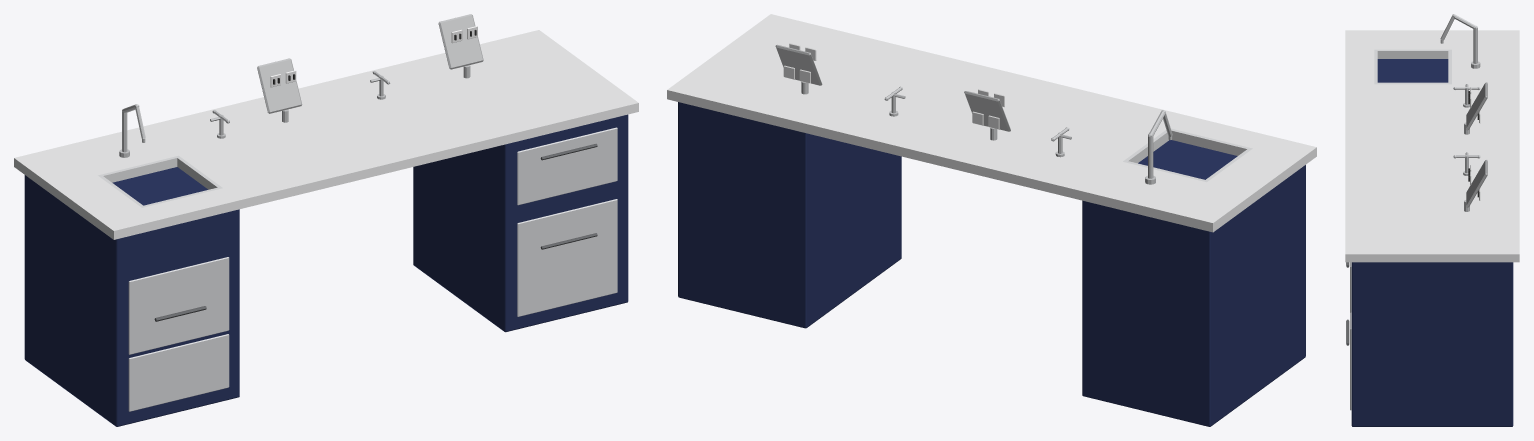
Rendered from ChemLabTable_LowPoly.fbx.
3 renders of one model, left to right at view 1: azimuth 30°, elevation 25°; view 2: azimuth 150°, elevation 25°; view 3: azimuth 270°, elevation 25°, orthographic. The views are drawn at different scales.
Parts seen in each view (by area): view 1: LabTable_Body, LabTable_Countertop, LabTable_Outlet_R, LabTable_Outlet_L, LabTable_Sink; view 2: LabTable_Body, LabTable_Countertop, LabTable_Sink, LabTable_Outlet_R, LabTable_Outlet_L, LabTable_Faucet; view 3: LabTable_Countertop, LabTable_Body, LabTable_Sink, LabTable_Outlet_L, LabTable_Outlet_R, LabTable_Faucet.
Boxes of the visible parts, bbox=[...] form: LabTable_Body: bbox=[24, 114, 628, 426]; LabTable_Countertop: bbox=[14, 30, 638, 239]; LabTable_Outlet_R: bbox=[438, 14, 483, 78]; LabTable_Outlet_L: bbox=[257, 58, 302, 122]; LabTable_Sink: bbox=[98, 155, 222, 207]; LabTable_Body: bbox=[678, 102, 1305, 426]; LabTable_Countertop: bbox=[667, 14, 1316, 232]; LabTable_Sink: bbox=[1123, 128, 1252, 182]; LabTable_Outlet_R: bbox=[775, 43, 822, 94]; LabTable_Outlet_L: bbox=[964, 89, 1010, 140]; LabTable_Faucet: bbox=[1145, 110, 1172, 184]; LabTable_Countertop: bbox=[1345, 30, 1519, 262]; LabTable_Body: bbox=[1346, 59, 1513, 426]; LabTable_Sink: bbox=[1374, 49, 1451, 84]; LabTable_Outlet_L: bbox=[1464, 82, 1487, 134]; LabTable_Outlet_R: bbox=[1464, 160, 1487, 211]; LabTable_Faucet: bbox=[1440, 14, 1480, 68].
Bounding box in the file's own units: 246 × 117 × 81.
